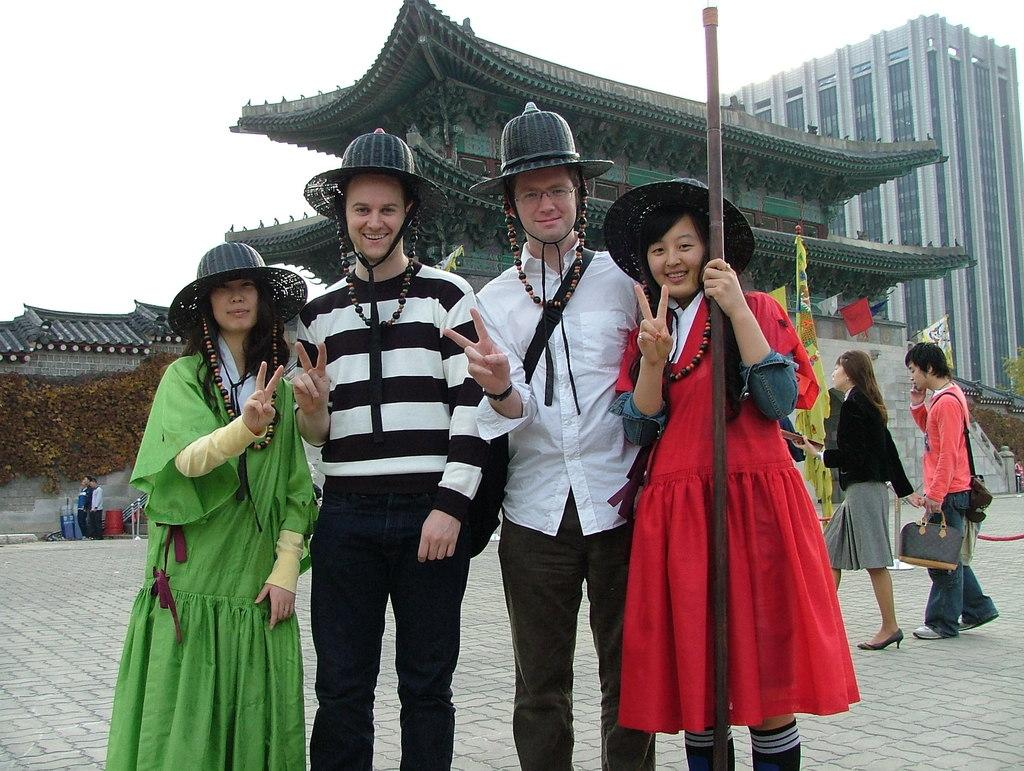Hat: (604, 177, 758, 379), (464, 103, 614, 310), (302, 126, 446, 332), (168, 241, 310, 448)
